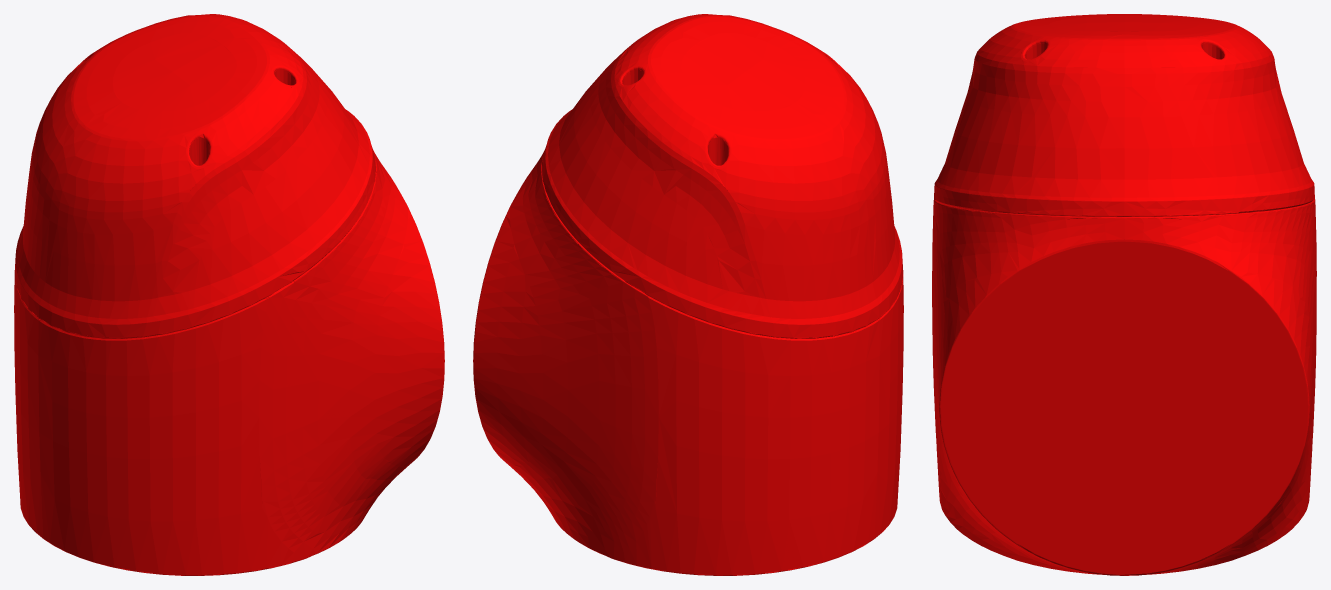
The picture shows the model from 3 angles, left to right: view 1: azimuth 30°, elevation 25°; view 2: azimuth 150°, elevation 25°; view 3: azimuth 270°, elevation 25°; orthographic projection. The views are drawn at different scales.
Parts seen in each view (by area): view 1: A0509_2_0; view 2: A0509_2_0; view 3: A0509_2_0.
Part boxes in pixels (x1,y1,x2,y2): A0509_2_0: (14, 14, 444, 575); A0509_2_0: (473, 14, 903, 575); A0509_2_0: (932, 14, 1316, 575).
Bounding box in the file's own units: 125 × 122 × 170.
